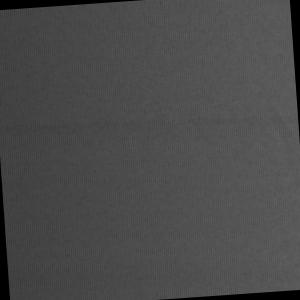Wrinkle: (1, 101, 299, 149), (216, 1, 298, 149)
